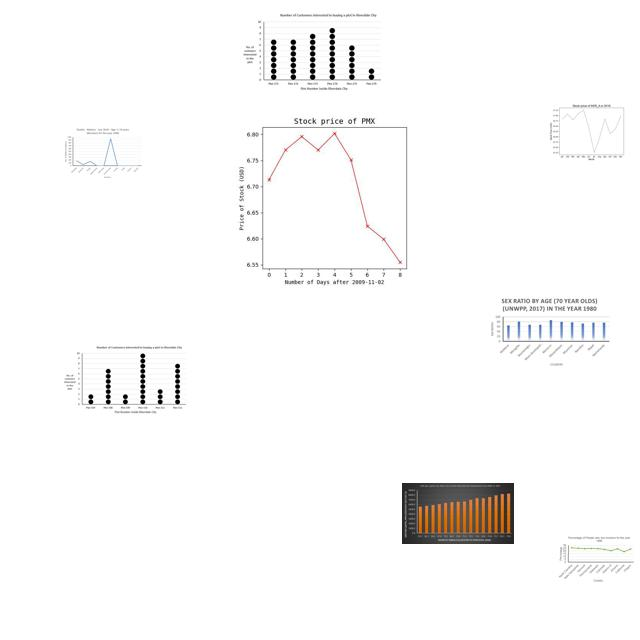Graph: (209, 105, 454, 289), (242, 13, 381, 92), (487, 296, 611, 368), (63, 345, 186, 416), (402, 483, 514, 544), (549, 100, 632, 162), (64, 127, 143, 179), (557, 535, 636, 583)
